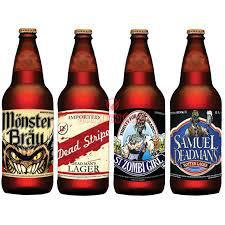beer: (1, 28, 225, 198)
